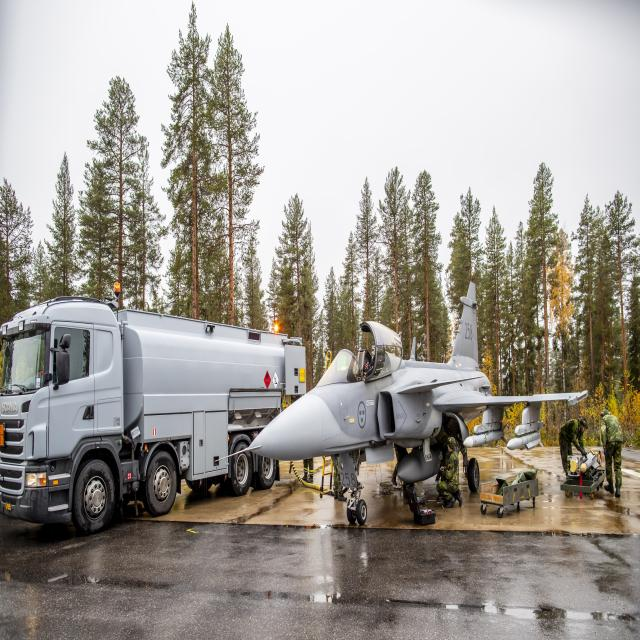MIL_Plane: (215, 281, 588, 525)
